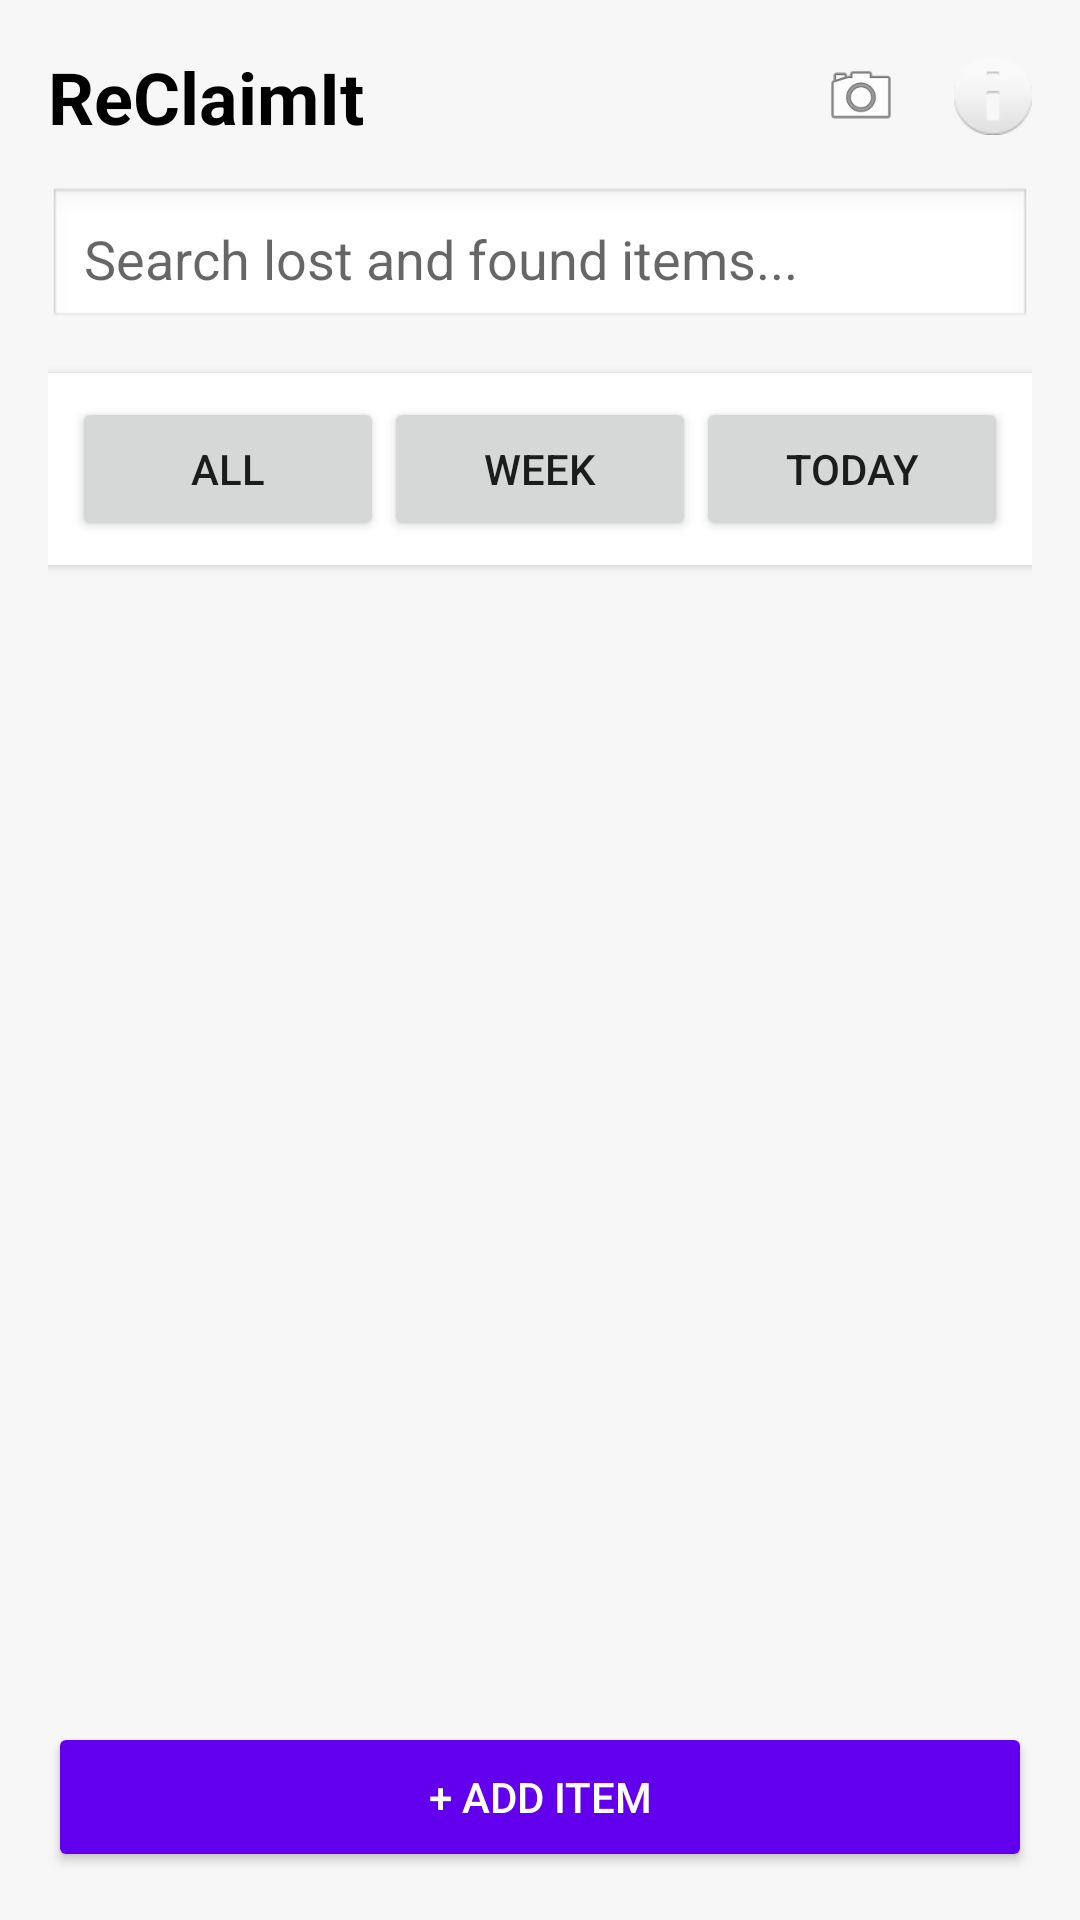

Screen size 1080px x 1920px. Icon name, then its box in pixels as bbox(x1, y1, x2, y2):
camera: bbox(831, 71, 891, 119)
info: bbox(954, 71, 1032, 135)
